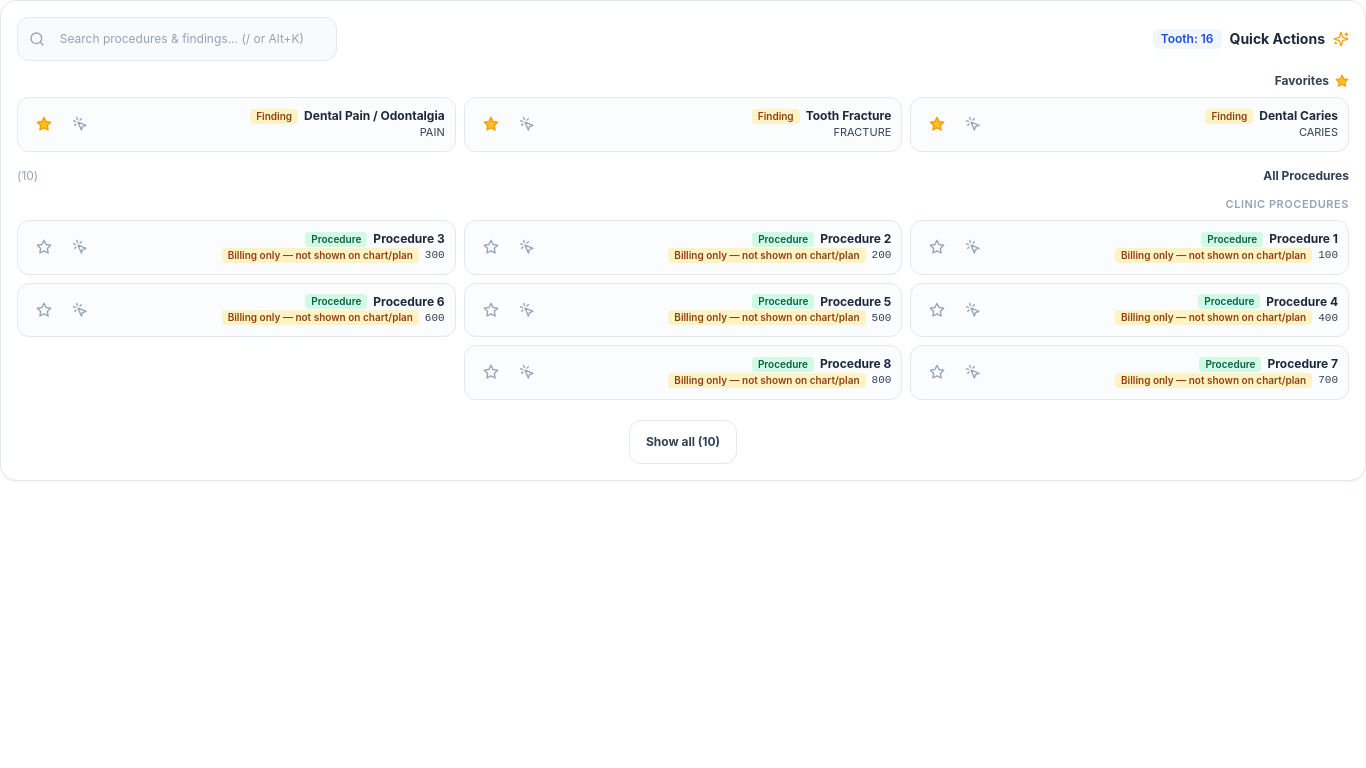
Test: U1 & G8: ChartQuickActionLauncher Real Clinic Catalog & Pricing › 10. renders expander button when clinic procedures exceed 8
// Click to expand
Click the button with test id "show-all-procedures-button" at [683, 442], box top-left (629, 420), bottom-right (737, 464)
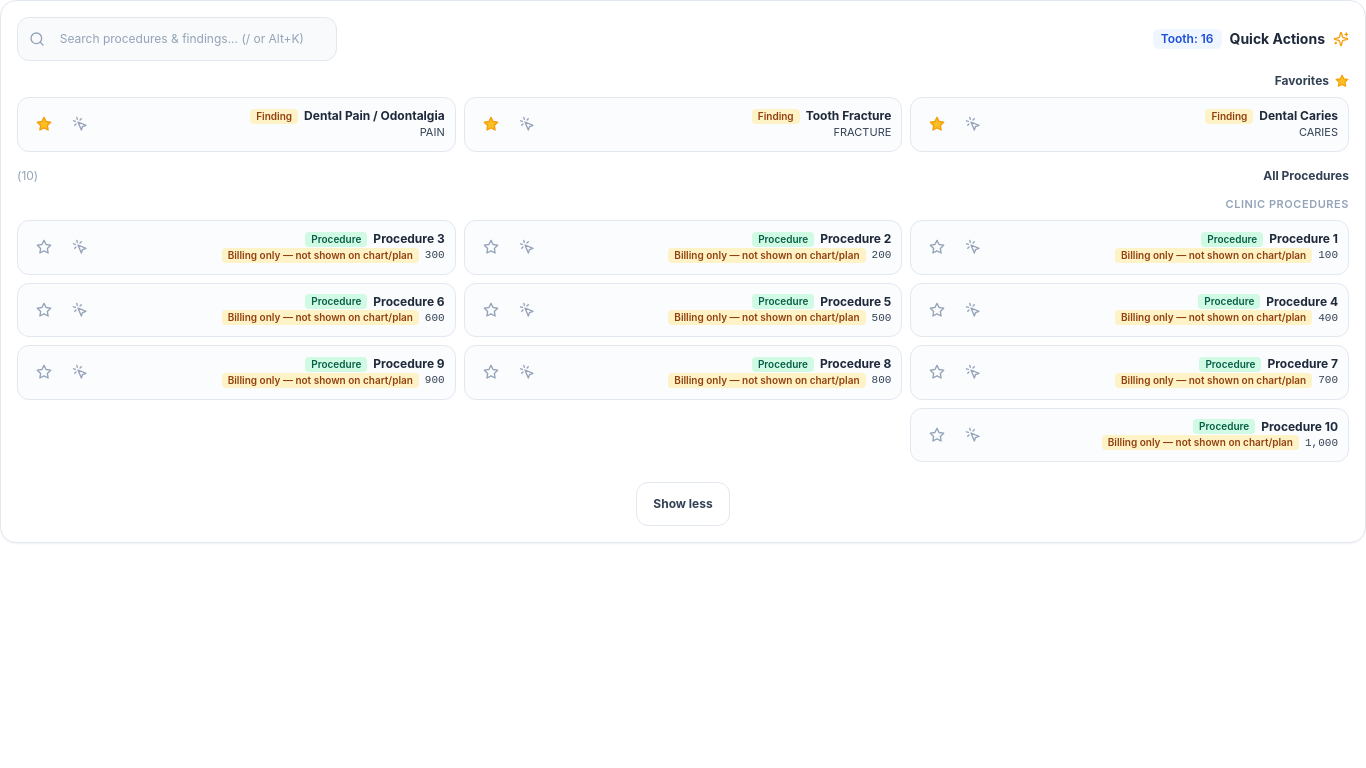
Check: the button with test id "show-all-procedures-button" reads "Show less", box top-left (636, 482), bottom-right (730, 526)
Check: the button with test id "chart-quick-action-item-proc:10" is shown, box top-left (910, 408), bottom-right (1349, 462)
